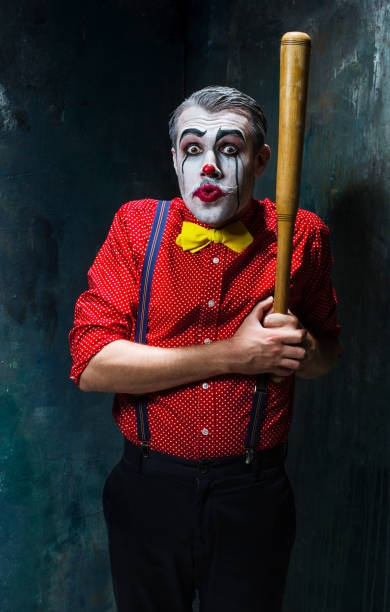bita: (256, 28, 317, 345)
